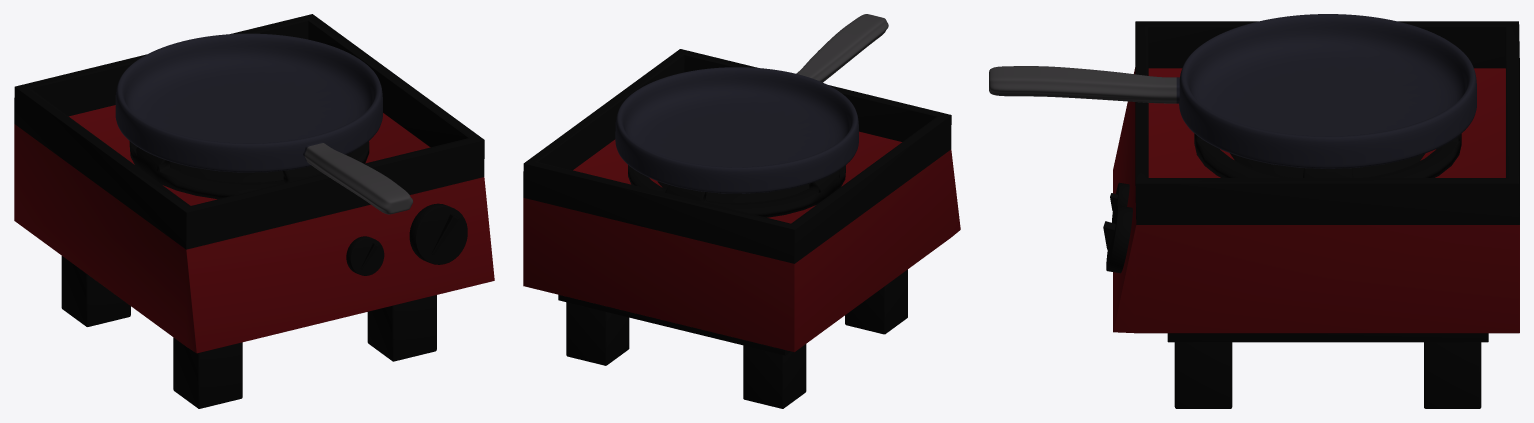
Rendered from stove_pan.fbx.
3 views of the same model, side by side, from view 1: azimuth 30°, elevation 25°; view 2: azimuth 150°, elevation 25°; view 3: azimuth 270°, elevation 25° (orthographic). The views are drawn at different scales.
Visible parts, largest first — view 1: kompor.002, pan, kompor_kaki.001, kompor.003, komport_tombol.001, kompor_tombol.001; view 2: kompor.002, pan, kompor_kaki.001, kompor.003; view 3: kompor.002, pan, kompor_kaki.001, kompor.003, komport_tombol.001.
Part boxes in pixels (x1,y1,x2,y2): kompor.002: [14, 14, 494, 353]; pan: [115, 33, 412, 214]; kompor_kaki.001: [61, 256, 436, 408]; kompor.003: [129, 141, 369, 199]; komport_tombol.001: [409, 203, 467, 264]; kompor_tombol.001: [346, 236, 384, 275]; kompor.002: [523, 49, 960, 355]; pan: [615, 14, 888, 193]; kompor_kaki.001: [566, 269, 907, 408]; kompor.003: [628, 165, 845, 217]; kompor.002: [1113, 21, 1519, 342]; pan: [989, 14, 1476, 168]; kompor_kaki.001: [1174, 342, 1481, 408]; kompor.003: [1194, 133, 1461, 177]; komport_tombol.001: [1103, 205, 1132, 273].
Size of the model in its own units: 100 by 78.21 by 138.
